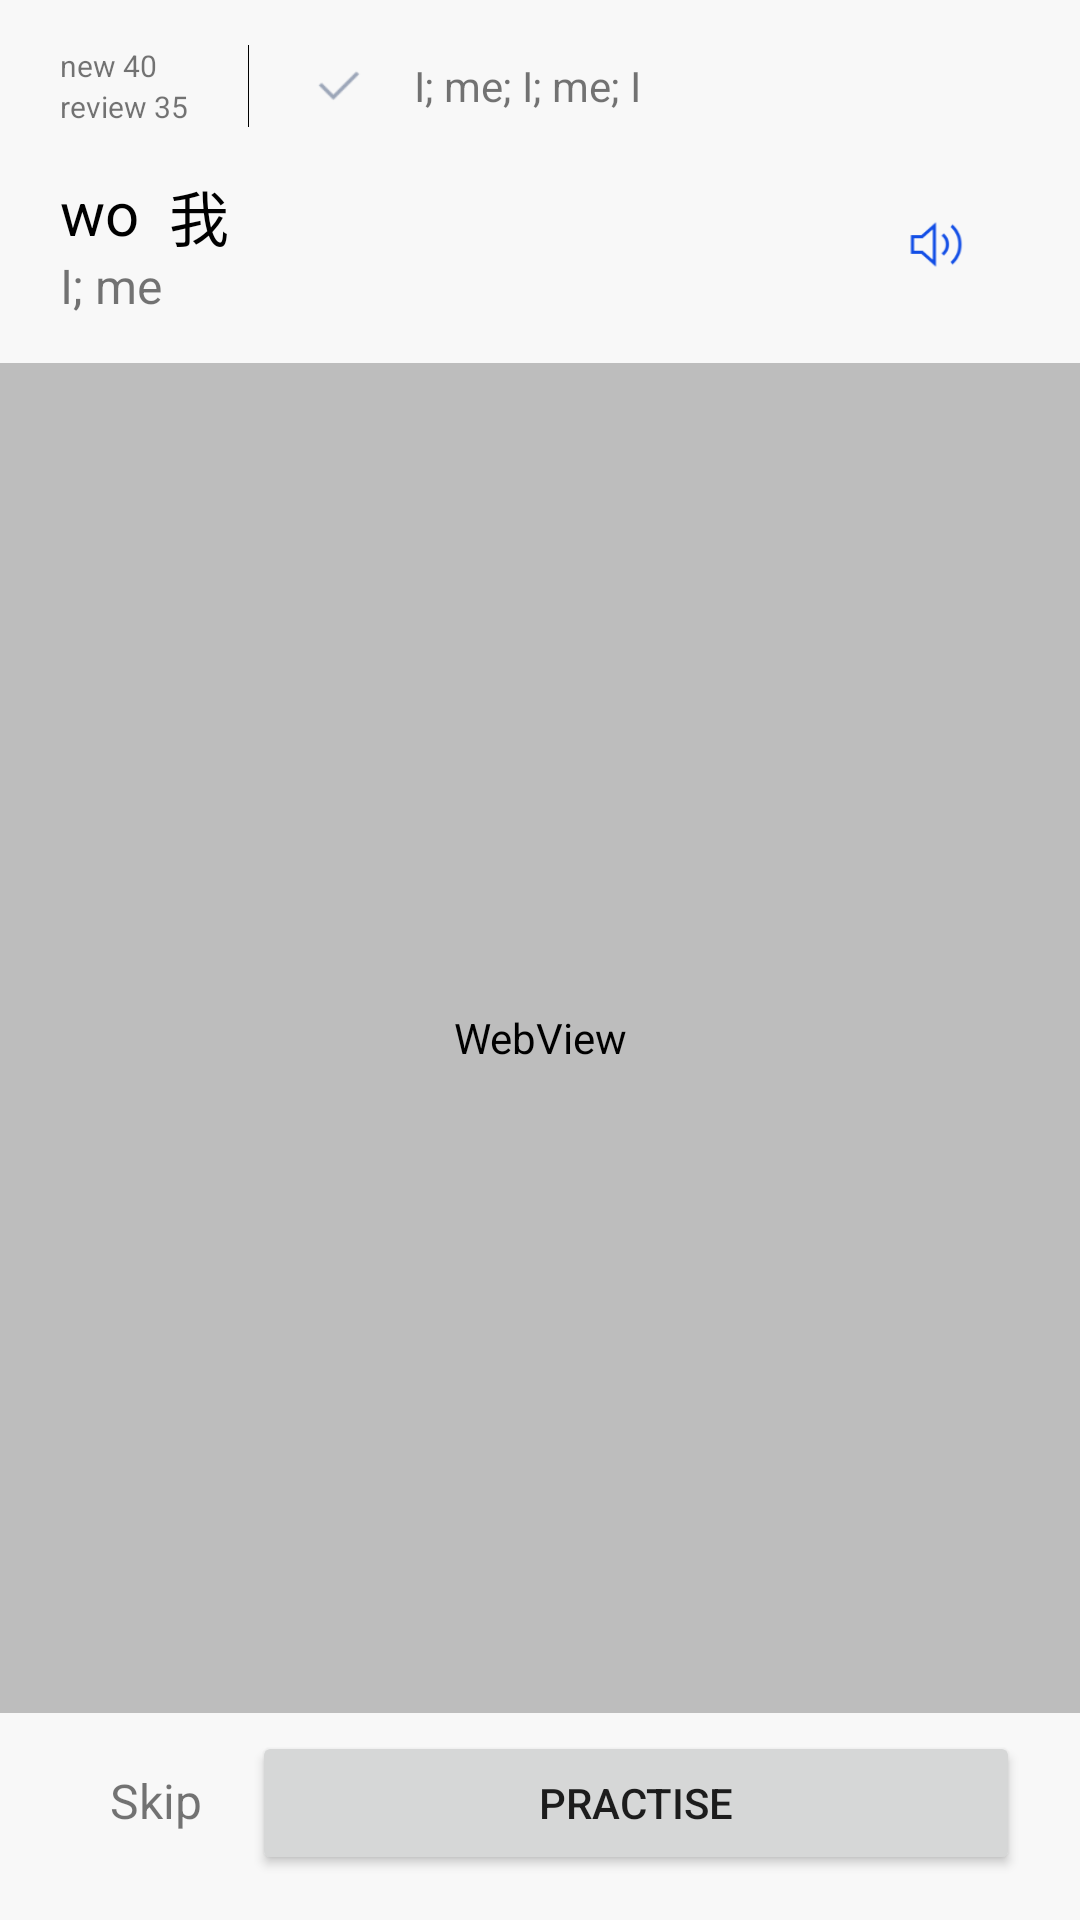

Point at icon controls on the screen. Image size 1080x1920, points as point (x, y).
sound: point (936, 244)
tick: point (339, 86)
